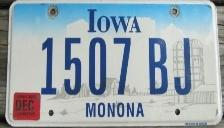0: (86, 35, 111, 98)
1: (38, 36, 59, 96)
5: (62, 36, 86, 98)
7: (110, 35, 134, 98)
B: (145, 34, 171, 96)
L: (171, 36, 195, 96)
